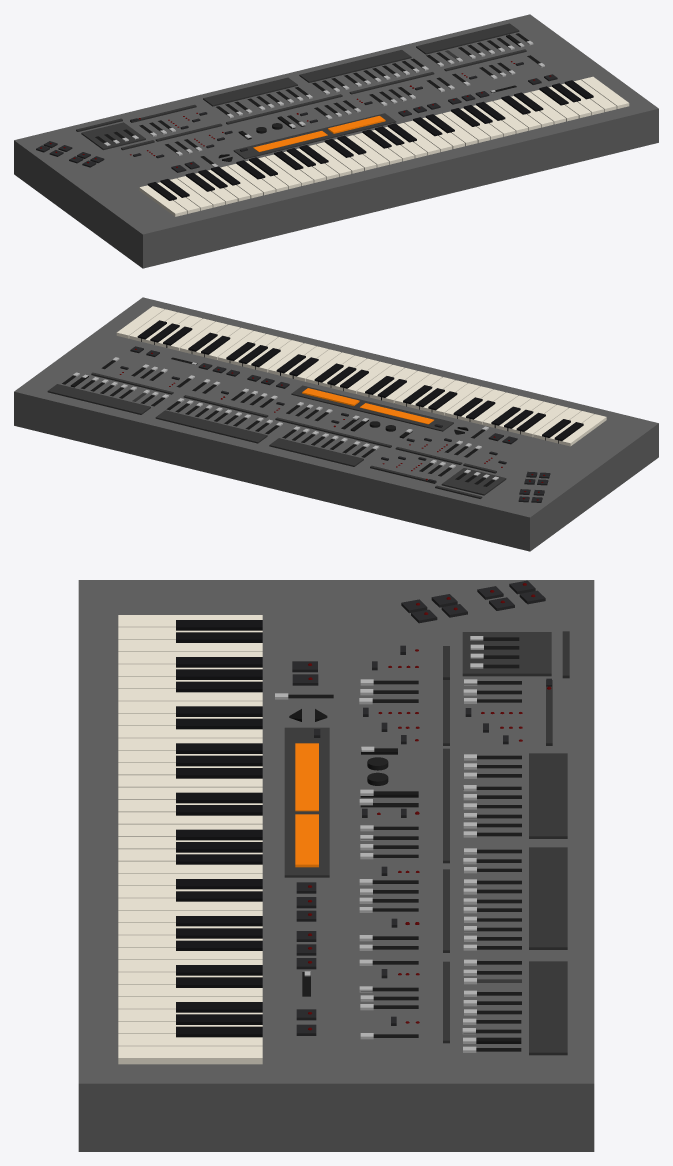
3 views of the same model, one above another, from view 1: azimuth 30°, elevation 25°; view 2: azimuth 150°, elevation 25°; view 3: azimuth 270°, elevation 25° (orthographic). The views are drawn at different scales.
Parts seen in each view (by area): view 1: synth_body.1, panel1.1, panel3, panel3.1, panel2, panel1, Key_C1, Key_C6, panel1.2, Key_F1, Key_F4, Key_C2 (+18 smaller); view 2: synth_body.1, panel1.1, panel3, panel3.1, panel2, panel1, Key_C1, Key_C6, panel1.2, Key_F1, Key_F4, Key_F5 (+18 smaller); view 3: synth_body.1, panel1.1, panel3, panel3.1, panel1, panel2, Key_C6, panel1.2, Key_B3, Key_B5, Key_E3, Key_B2 (+58 smaller).
Part boxes in pixels (box(x1,y1,x2,y2)): synth_body.1: box(14, 14, 658, 268); panel1.1: box(233, 113, 396, 159); panel3: box(299, 50, 411, 82); panel3.1: box(416, 23, 519, 54); panel2: box(203, 77, 297, 106); panel1: box(81, 122, 145, 150); Key_C1: box(139, 185, 187, 216); Key_C6: box(581, 76, 629, 108); panel1.2: box(253, 131, 327, 151); Key_F1: box(177, 176, 225, 207); Key_F4: box(442, 111, 490, 142); Key_C2: box(227, 164, 275, 195); synth_body.1: box(14, 297, 658, 551); panel1.1: box(291, 385, 453, 431); panel3: box(155, 410, 267, 443); panel3.1: box(47, 384, 150, 414); panel2: box(269, 438, 363, 466); panel1: box(441, 468, 506, 495); Key_C1: box(558, 414, 606, 446); Key_C6: box(116, 306, 164, 338); panel1.2: box(360, 403, 433, 424); Key_F1: box(520, 405, 568, 437); Key_F4: box(255, 340, 303, 372); Key_F5: box(167, 318, 215, 350); synth_body.1: box(78, 580, 594, 1151); panel1.1: box(284, 727, 329, 877); panel3: box(529, 847, 567, 949); panel3.1: box(529, 961, 567, 1055); panel1: box(462, 632, 551, 676); panel2: box(529, 753, 567, 838); Key_C6: box(118, 1046, 262, 1064); panel1.2: box(295, 743, 318, 811); Key_B3: box(118, 861, 262, 873); Key_B5: box(118, 1034, 262, 1046); Key_E3: box(118, 812, 262, 824); Key_B2: box(118, 775, 262, 787).
Size of what is drawn, in the model's own units: 7.96 by 0.574 by 3.44.
